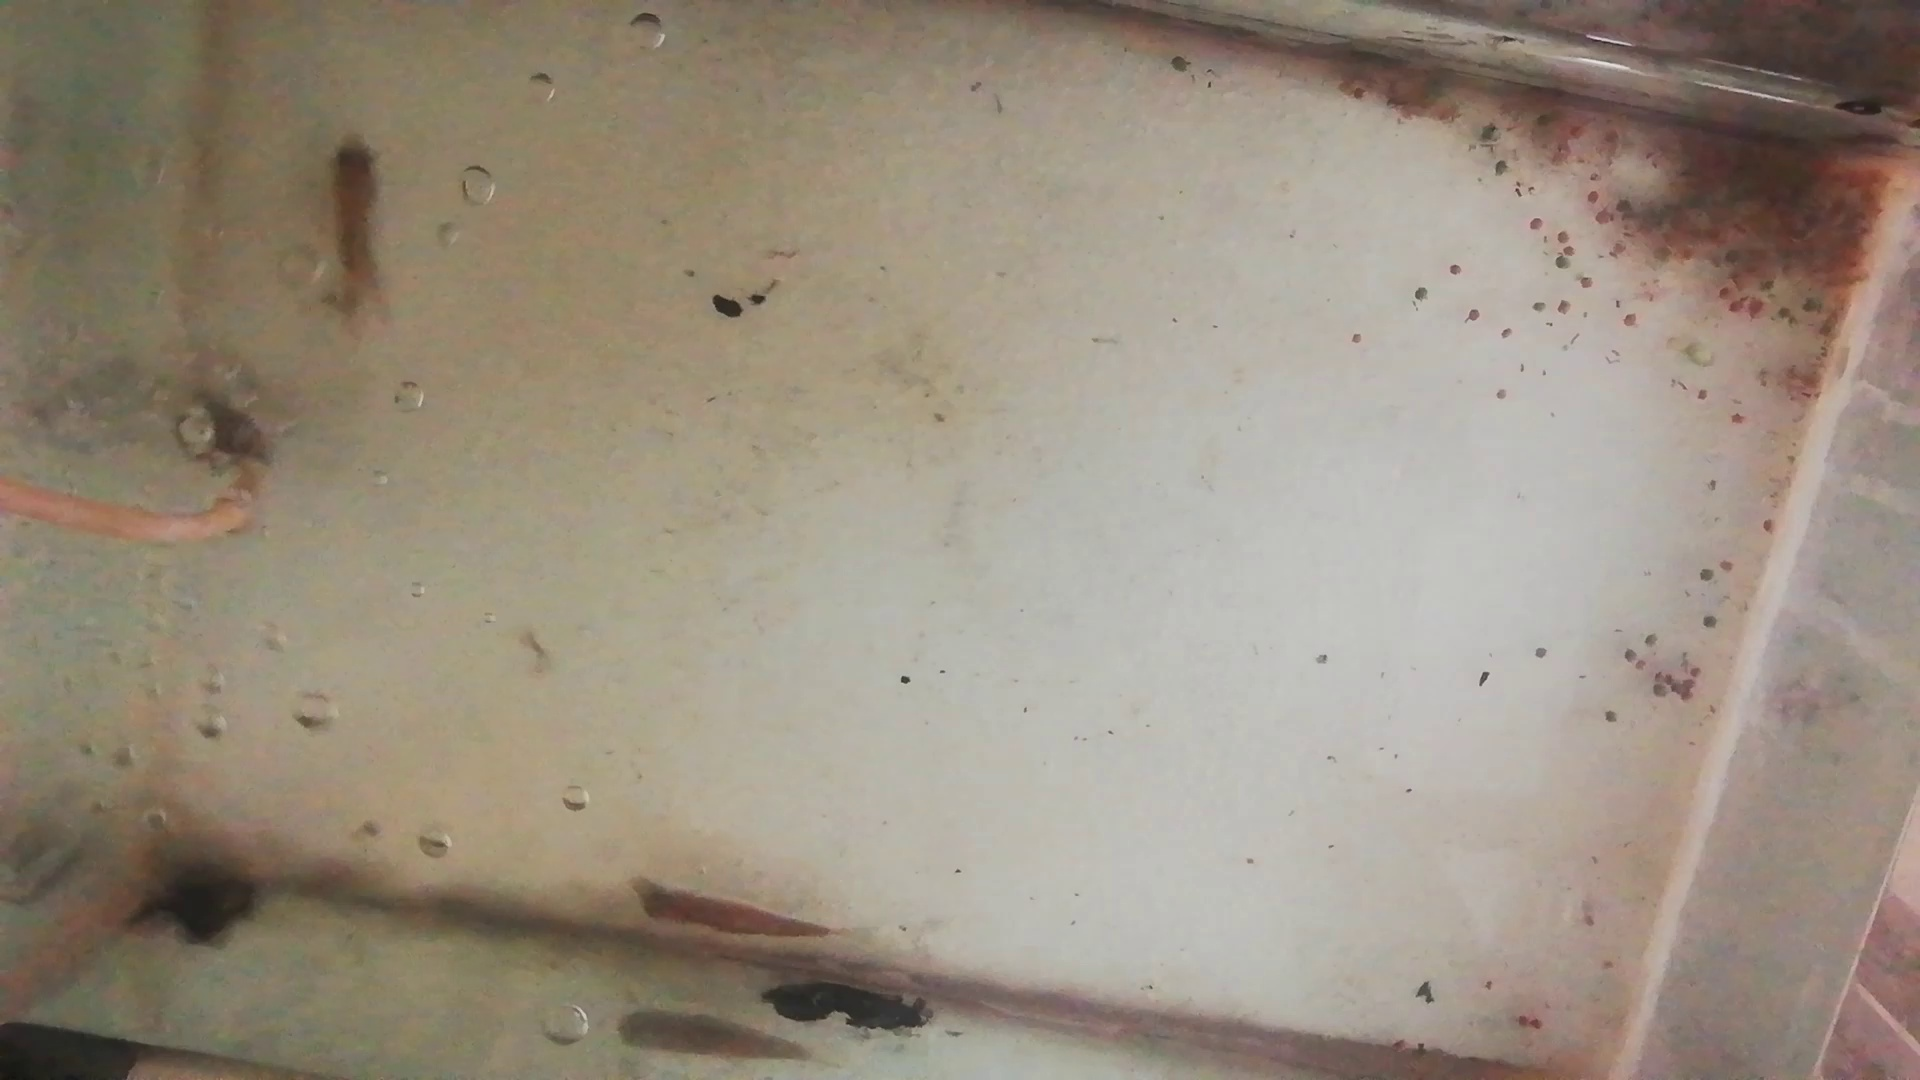fish: (628, 886, 831, 945), (327, 129, 386, 328)
